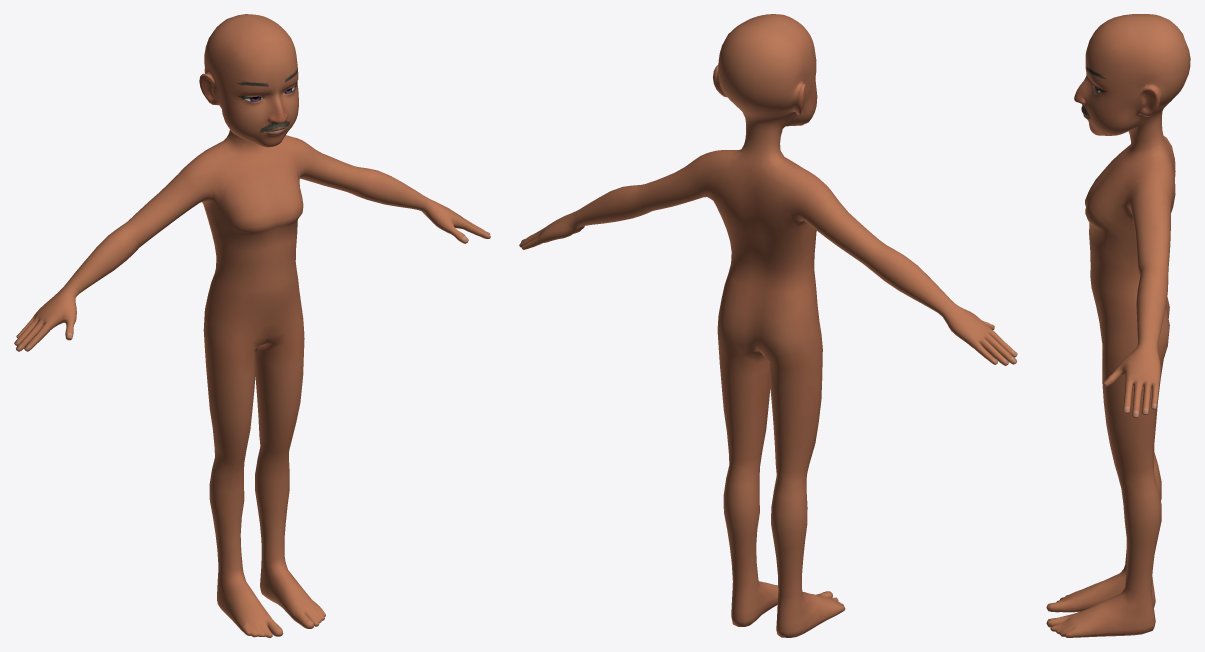
The model's file is frame_0074.glb.
The picture shows the model from 3 angles, left to right: view 1: azimuth 30°, elevation 25°; view 2: azimuth 150°, elevation 25°; view 3: azimuth 270°, elevation 25°; orthographic projection. The views are drawn at different scales.
Parts seen in each view (by area): view 1: frame_0074_head_geo; view 2: frame_0074_head_geo; view 3: frame_0074_head_geo.
Boxes of the visible parts, left/top/right/bottom form: frame_0074_head_geo: left=14, top=14, right=490, bottom=637; frame_0074_head_geo: left=519, top=14, right=1017, bottom=637; frame_0074_head_geo: left=1046, top=14, right=1190, bottom=637.
Bounding box in the file's own units: 1.28 × 1.5 × 0.3253.
Materials: 3 (3 with a texture image).
